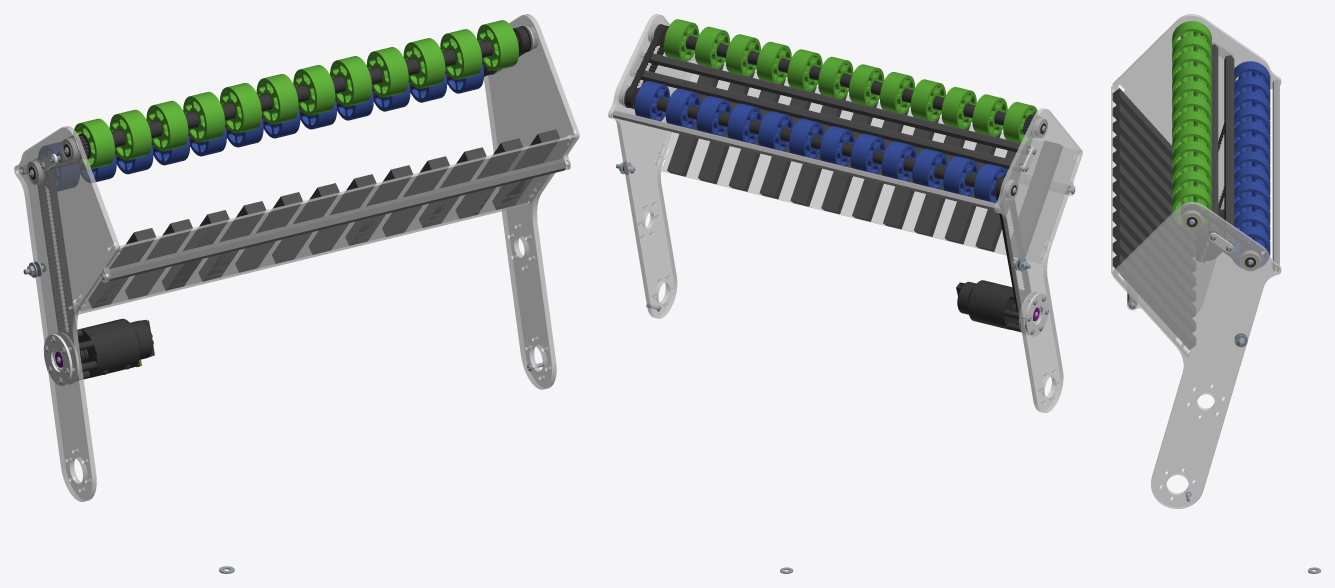
3 views of the same model, side by side, from view 1: azimuth 30°, elevation 25°; view 2: azimuth 150°, elevation 25°; view 3: azimuth 270°, elevation 25° (orthographic). The views are drawn at different scales.
Parts seen in each view (by area): view 1: PolyPlate (×2), Flap, Stripping (×12), 2.25" Compliant Wheel (35A, 1" Wide, 1/2" Hex Bore) (×12), HEX Spacer 24.797 in, Falcon 500 Brushless Motor (V3), 110T 5M 9mm Wide Belt, ScabPlate, 2.25" Compliant Wheel (50A, 1" Wide, 1/2" Hex Bore); view 2: PolyPlate (×2), Stripping (×12), 2.25" Compliant Wheel (35A, 1" Wide, 1/2" Hex Bore) (×12), 2.25" Compliant Wheel (50A, 1" Wide, 1/2" Hex Bore) (×12), Flap, 1/2" Hex (24.797 in) (×2), HEX375 Spacer 24.797 in, Falcon 500 Brushless Motor (V3), 110T 5M 9mm Wide Belt, 60T 5M 9mm Wide Belt, ScabPlate; view 3: PolyPlate (×2), Stripping (×12), 2.25" Compliant Wheel (35A, 1" Wide, 1/2" Hex Bore) (×12), 2.25" Compliant Wheel (50A, 1" Wide, 1/2" Hex Bore) (×12), 1/2" Hex (24.797 in) (×2), HEX375 Spacer 24.797 in, Flap, Falcon 500 Brushless Motor (V3), 1/2" Hex Bore Bearing (1.125" OD, 0.313" WD, Shielded, Flang (×2), 60T 5M 9mm Wide Belt.
Boxes of the visible parts, x1=… form: PolyPlate (×2): x1=14, y1=14, x2=579, y2=501; Flap: x1=74, y1=135, x2=575, y2=314; Stripping (×12): x1=89, y1=129, x2=560, y2=308; 2.25" Compliant Wheel (35A, 1" Wide, 1/2" Hex Bore) (×12): x1=73, y1=20, x2=518, y2=169; HEX Spacer 24.797 in: x1=105, y1=159, x2=565, y2=281; Falcon 500 Brushless Motor (V3): x1=78, y1=318, x2=154, y2=377; 110T 5M 9mm Wide Belt: x1=38, y1=157, x2=80, y2=363; ScabPlate: x1=43, y1=334, x2=72, y2=386; 2.25" Compliant Wheel (50A, 1" Wide, 1/2" Hex Bore): x1=38, y1=142, x2=79, y2=191; PolyPlate (×2): x1=608, y1=14, x2=1082, y2=412; Stripping (×12): x1=667, y1=64, x2=1062, y2=257; 2.25" Compliant Wheel (35A, 1" Wide, 1/2" Hex Bore) (×12): x1=664, y1=19, x2=1037, y2=143; 2.25" Compliant Wheel (50A, 1" Wide, 1/2" Hex Bore) (×12): x1=634, y1=81, x2=1008, y2=203; Flap: x1=658, y1=60, x2=1078, y2=263; 1/2" Hex (24.797 in) (×2): x1=636, y1=53, x2=1030, y2=171; HEX375 Spacer 24.797 in: x1=612, y1=110, x2=998, y2=210; Falcon 500 Brushless Motor (V3): x1=956, y1=280, x2=1019, y2=329; 110T 5M 9mm Wide Belt: x1=995, y1=177, x2=1030, y2=319; 60T 5M 9mm Wide Belt: x1=625, y1=24, x2=666, y2=108; ScabPlate: x1=1025, y1=293, x2=1048, y2=336; PolyPlate (×2): x1=1112, y1=14, x2=1281, y2=508; Stripping (×12): x1=1112, y1=88, x2=1195, y2=349; 2.25" Compliant Wheel (35A, 1" Wide, 1/2" Hex Bore) (×12): x1=1172, y1=21, x2=1211, y2=227; 2.25" Compliant Wheel (50A, 1" Wide, 1/2" Hex Bore) (×12): x1=1232, y1=61, x2=1270, y2=267; 1/2" Hex (24.797 in) (×2): x1=1208, y1=44, x2=1234, y2=245; HEX375 Spacer 24.797 in: x1=1272, y1=79, x2=1279, y2=271; Flap: x1=1111, y1=86, x2=1189, y2=356; Falcon 500 Brushless Motor (V3): x1=1193, y1=207, x2=1224, y2=262; 1/2" Hex Bore Bearing (1.125" OD, 0.313" WD, Shielded, Flang (×2): x1=1181, y1=210, x2=1261, y2=271; 60T 5M 9mm Wide Belt: x1=1182, y1=206, x2=1260, y2=262.
Size of the model in its own units: 0.6806 by 0.7295 by 0.3001.
